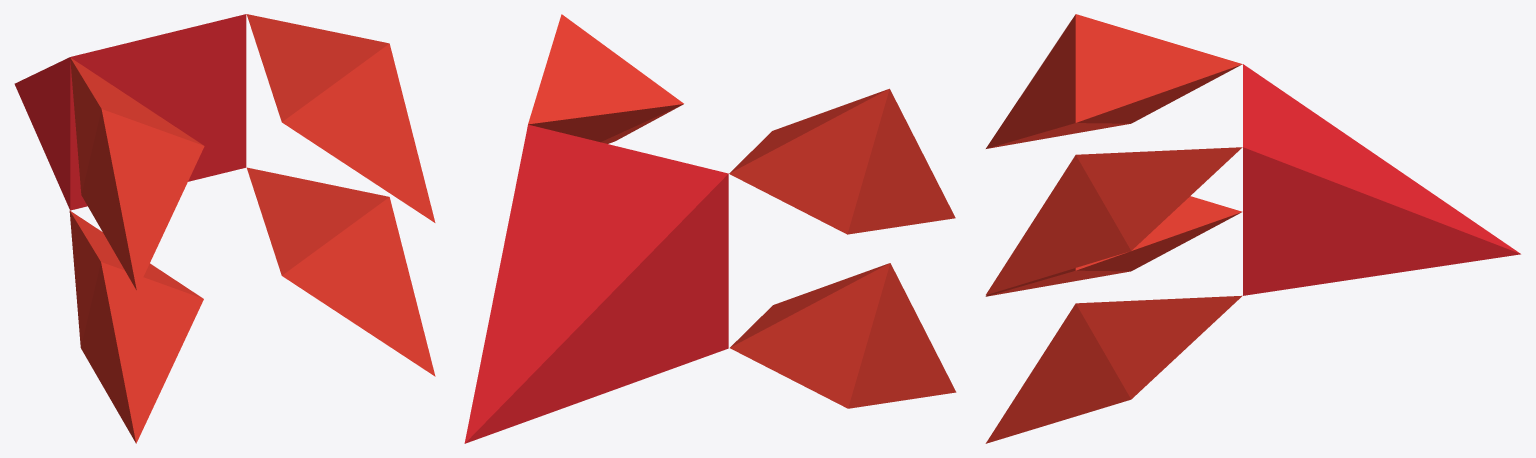
The model's file is nave_inimiga.fbx.
3 renders of one model, left to right at view 1: azimuth 30°, elevation 25°; view 2: azimuth 150°, elevation 25°; view 3: azimuth 270°, elevation 25°, orthographic. The views are drawn at different scales.
Visible parts, largest first — view 1: Asas, FrenteNave; view 2: FrenteNave, Asas; view 3: Asas, FrenteNave.
Part boxes in pixels (bbox=[...]): Asas: bbox=[69, 14, 435, 443]; FrenteNave: bbox=[14, 14, 246, 210]; FrenteNave: bbox=[464, 124, 728, 443]; Asas: bbox=[528, 14, 956, 408]; Asas: bbox=[985, 14, 1242, 443]; FrenteNave: bbox=[1243, 64, 1520, 295].
Bounding box in the file's own units: 241 × 233 × 385.
